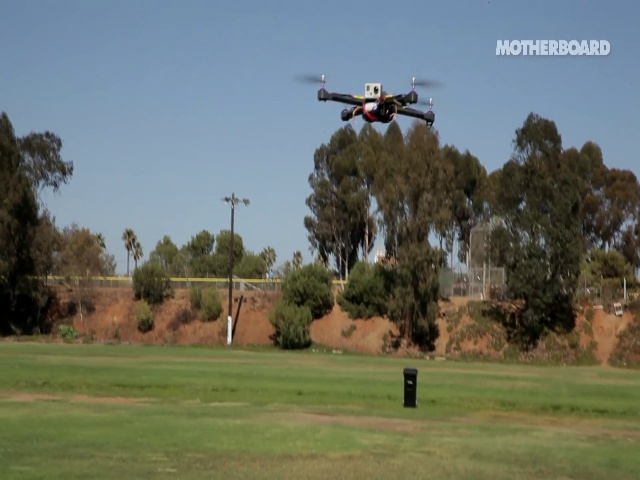drone: (285, 57, 463, 145)
